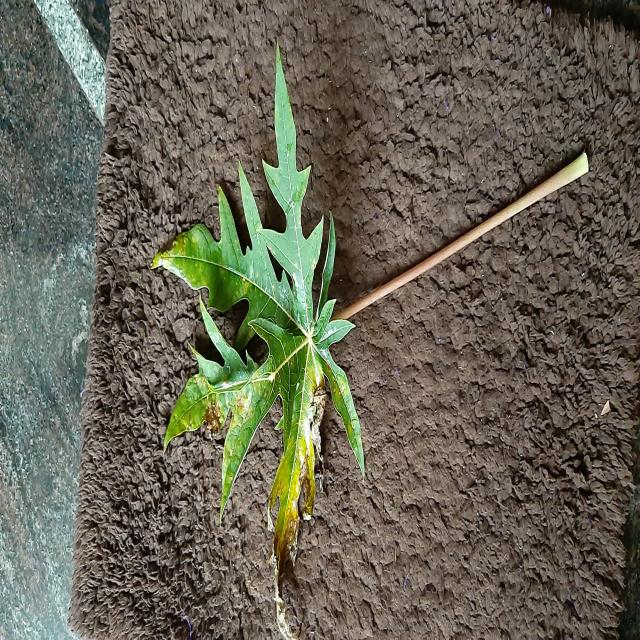seedling blight: (152, 49, 364, 577)
